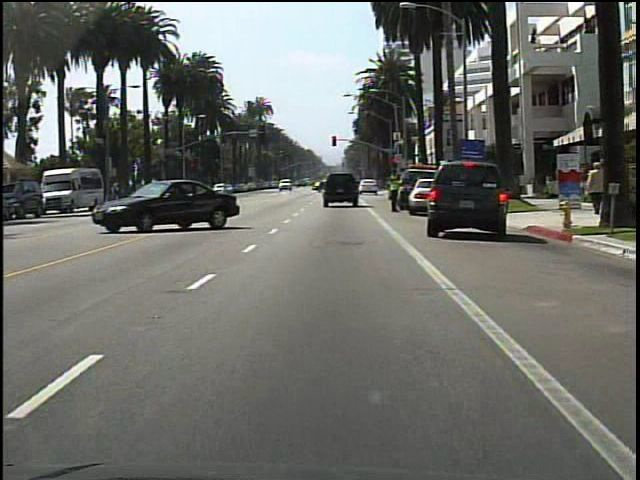person: (583, 160, 602, 220), (385, 171, 404, 219)
